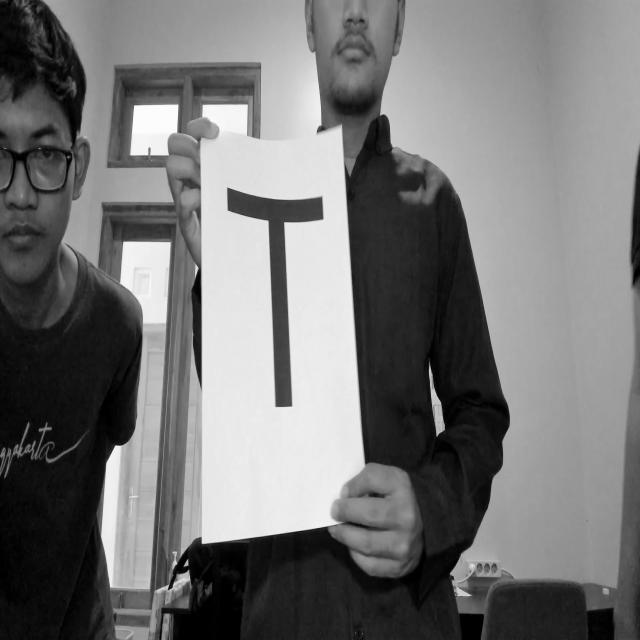t: (220, 170, 347, 440)
